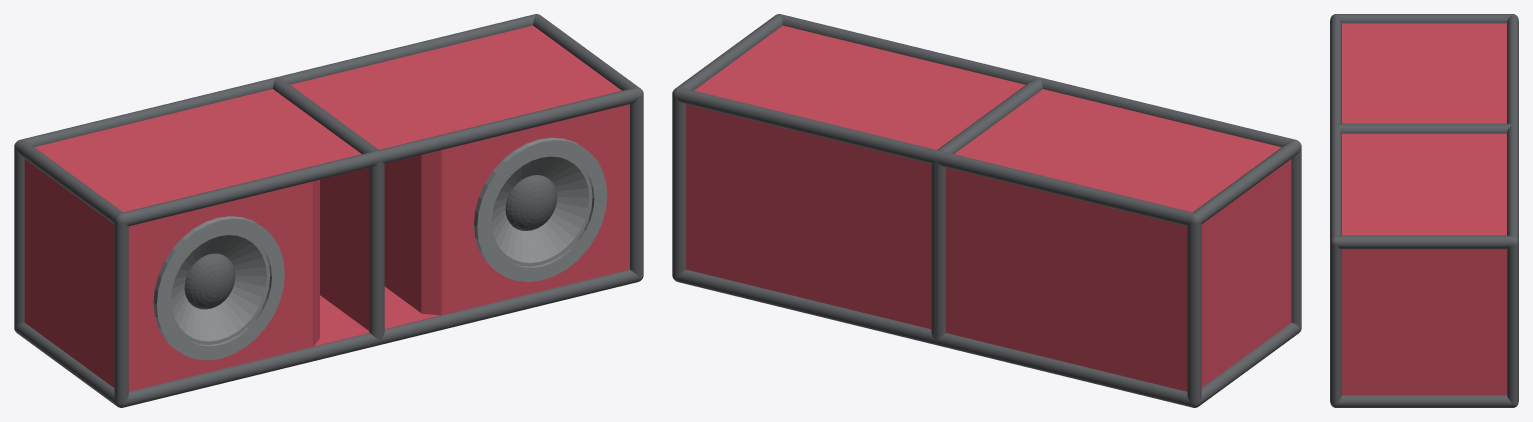
File: double mini scoop.glb
The picture shows the model from 3 angles, left to right: view 1: azimuth 30°, elevation 25°; view 2: azimuth 150°, elevation 25°; view 3: azimuth 270°, elevation 25°; orthographic projection. The views are drawn at different scales.
Parts seen in each view (by area): view 1: Mesh_Mesh_head_geo.001_lambert2SG.001; view 2: Mesh_Mesh_head_geo.001_lambert2SG.001; view 3: Mesh_Mesh_head_geo.001_lambert2SG.001.
Part boxes in pixels (x1,y1,x2,y2): Mesh_Mesh_head_geo.001_lambert2SG.001: (14,14,643,407); Mesh_Mesh_head_geo.001_lambert2SG.001: (672,14,1301,407); Mesh_Mesh_head_geo.001_lambert2SG.001: (1330,14,1518,407).
Bounding box in the file's own units: 57 × 20 × 20.
